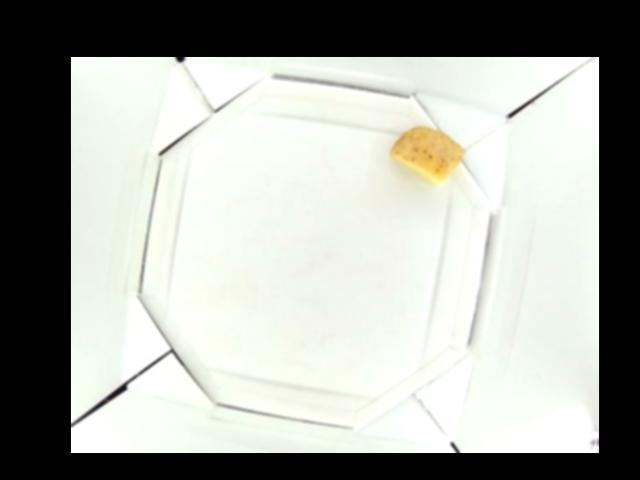Potato: (391, 126, 462, 183)
